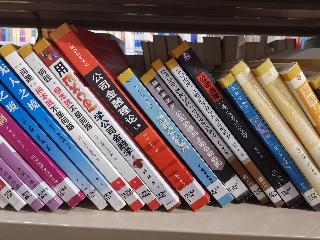book-spine: (46, 21, 211, 214), (31, 37, 182, 215), (0, 40, 146, 215), (18, 43, 163, 215), (170, 39, 305, 212), (0, 58, 128, 215), (164, 57, 285, 210), (151, 59, 270, 207), (117, 67, 235, 210), (140, 68, 253, 204), (220, 72, 320, 213), (0, 86, 109, 214), (230, 59, 320, 200), (0, 107, 84, 214), (254, 60, 320, 171), (283, 63, 320, 132)
